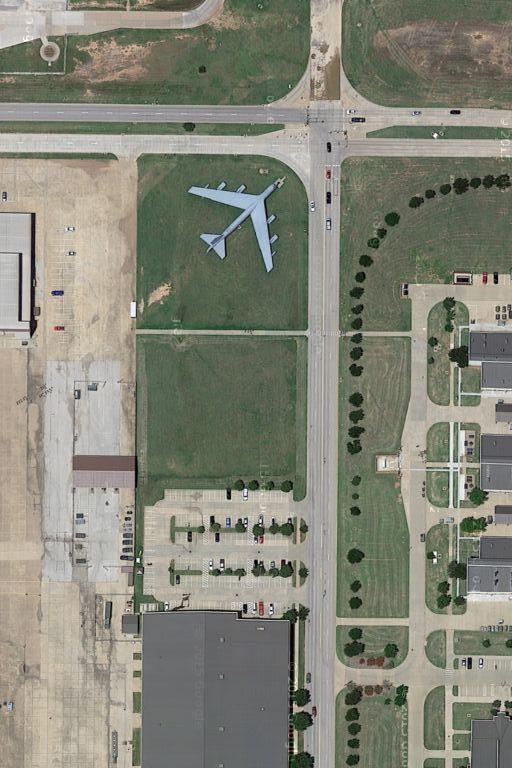B-52: (185, 171, 285, 273)
